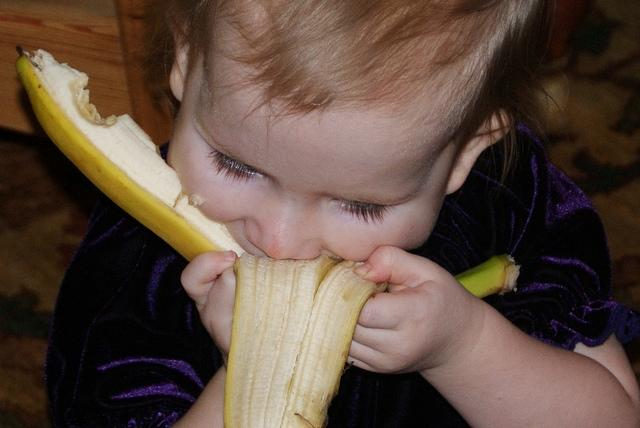banana: (14, 45, 522, 428)
